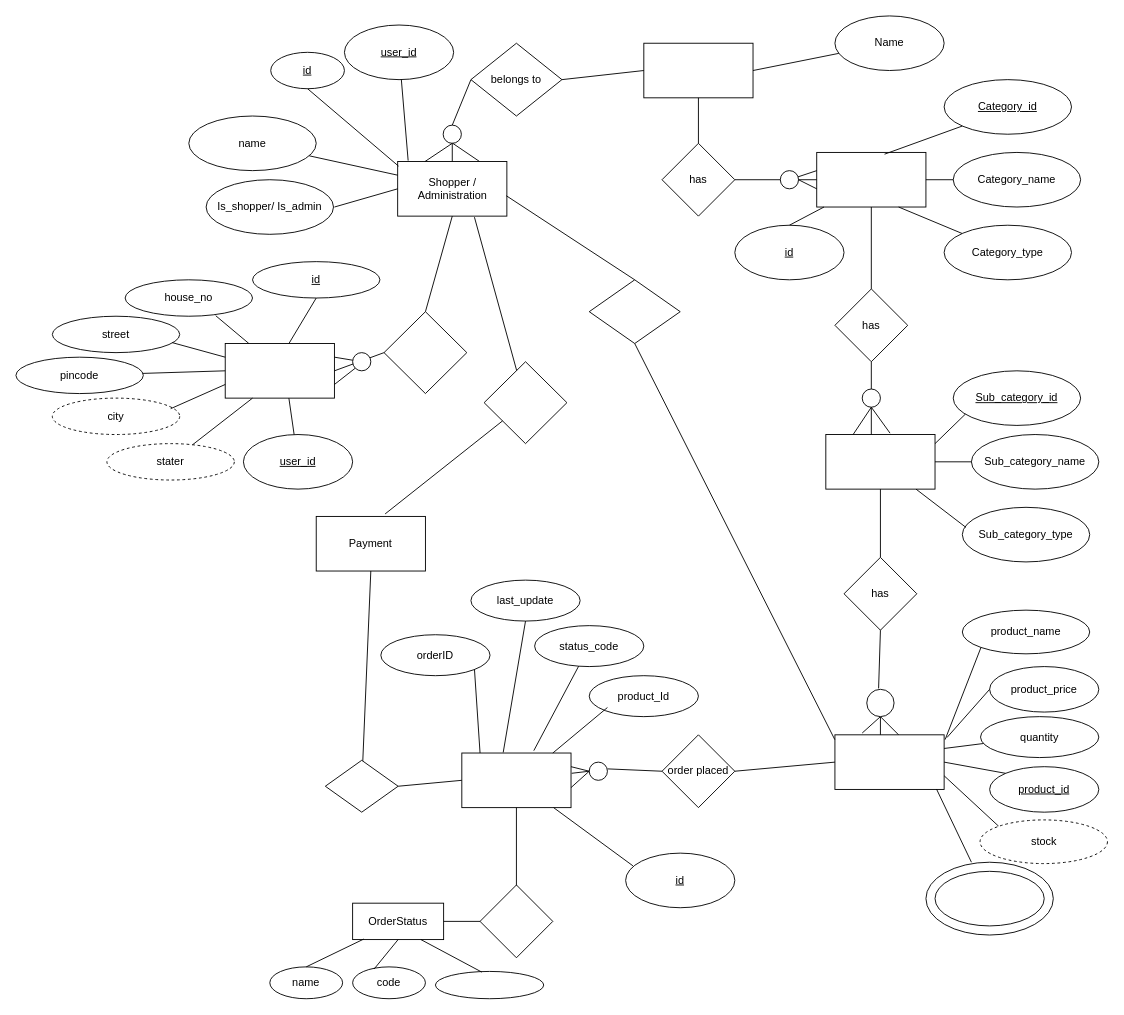
Some shapes in this 1124 by 1015 pixel diagram are drawn without their labels. Each missing label, with the centre of its shape:
Address: the point at 279,370
address of User: the point at 425,352
APPLICATION: the point at 698,70
buys: the point at 634,311
description: the point at 489,985
does: the point at 525,402
done for: the point at 361,785
Order: the point at 516,780
Product Category: the point at 871,179
product_images: the point at 989,898
Products: the point at 889,761
status: the point at 516,921
Sub Product Category: the point at 880,461
